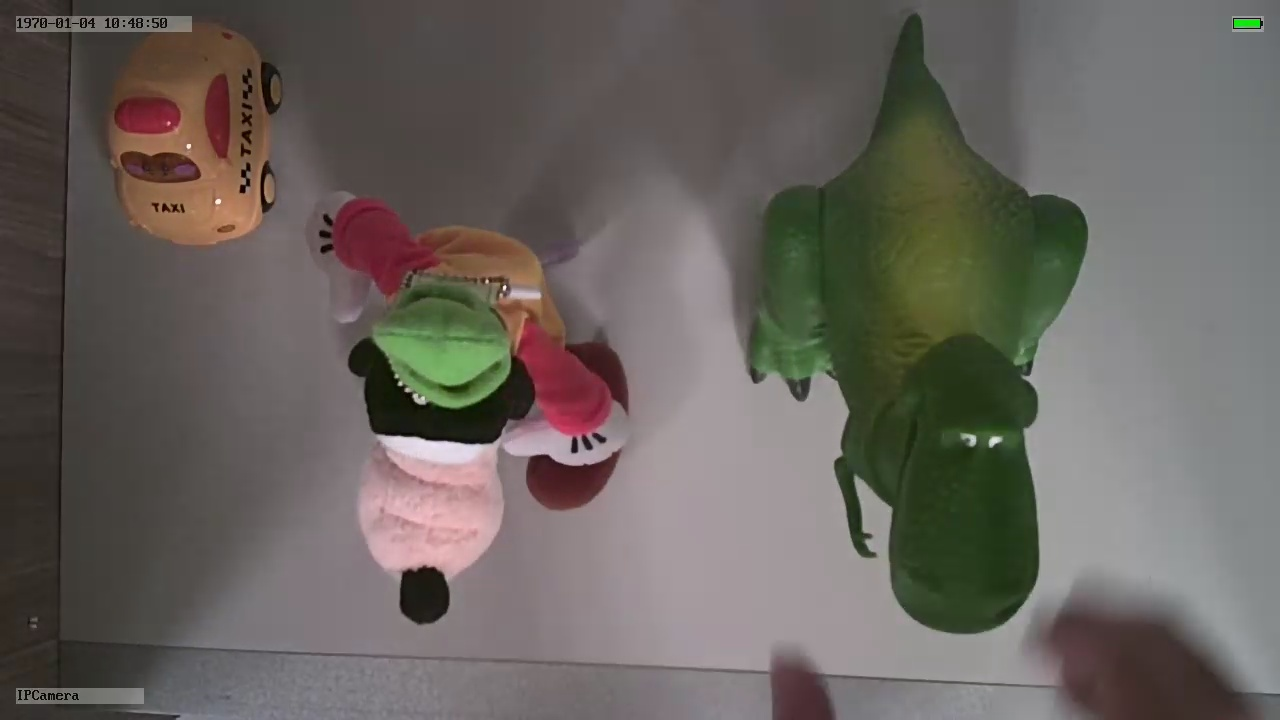car: (110, 26, 280, 246)
goofy: (304, 186, 633, 630)
rex: (746, 87, 1087, 634)
